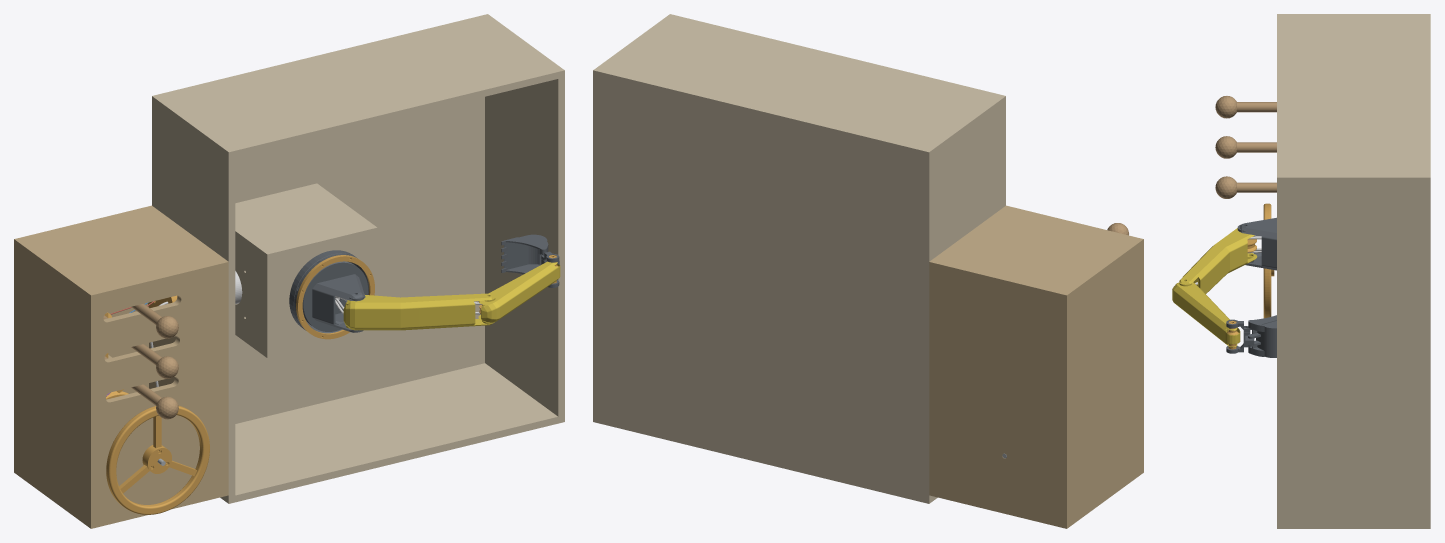
The model's file is 2026-09-24-ex-ma-assembly.glb.
3 renders of one model, left to right at view 1: azimuth 30°, elevation 25°; view 2: azimuth 150°, elevation 25°; view 3: azimuth 270°, elevation 25°, orthographic.
Parts seen in each view (by area): view 1: sandbox floor, box top (removable), sandbox wall +v, sandbox wall -v, sandbox wall +u, box rear, sandbox wall -u (box side), box left side, pedestal top, pedestal wall +v, slew-wheel, tower (+12 smaller); view 2: sandbox floor, box floor, sandbox wall +v, box rear, box left side, sandbox wall -u (box side), box top (removable); view 3: sandbox wall +u, sandbox wall +v, sandbox floor, boom-half-left, stick-half-left, tower, bucket, boom handle, stick handle, bucket handle, slew-wheel, sandbox wall -u (box side) (+2 smaller).
Part boxes in pixels (x1=…): sandbox floor: x1=152, y1=14, x2=491, y2=423; box top (removable): x1=87, y1=259, x2=228, y2=528; sandbox wall +v: x1=162, y1=18, x2=558, y2=157; sandbox wall -v: x1=235, y1=363, x2=558, y2=502; sandbox wall +u: x1=485, y1=17, x2=564, y2=423; box rear: x1=18, y1=240, x2=93, y2=525; sandbox wall -u (box side): x1=155, y1=97, x2=235, y2=503; box left side: x1=25, y1=210, x2=217, y2=290; pedestal top: x1=263, y1=225, x2=377, y2=357; pedestal wall +v: x1=235, y1=185, x2=366, y2=249; slew-wheel: x1=106, y1=406, x2=209, y2=514; tower: x1=302, y1=261, x2=367, y2=332; sandbox floor: x1=593, y1=67, x2=932, y2=503; box floor: x1=929, y1=259, x2=1070, y2=528; sandbox wall +v: x1=604, y1=15, x2=998, y2=147; box rear: x1=1064, y1=240, x2=1139, y2=525; box left side: x1=940, y1=210, x2=1132, y2=290; sandbox wall -u (box side): x1=927, y1=94, x2=1005, y2=500; box top (removable): x1=1003, y1=205, x2=1143, y2=474; sandbox wall +u: x1=1277, y1=174, x2=1422, y2=528; sandbox wall +v: x1=1277, y1=17, x2=1422, y2=174; sandbox floor: x1=1423, y1=14, x2=1430, y2=528; boom-half-left: x1=1179, y1=228, x2=1254, y2=288; stick-half-left: x1=1172, y1=282, x2=1240, y2=339; tower: x1=1237, y1=217, x2=1276, y2=270; bucket: x1=1243, y1=315, x2=1276, y2=357; boom handle: x1=1215, y1=96, x2=1276, y2=118; stick handle: x1=1215, y1=136, x2=1276, y2=158; bucket handle: x1=1215, y1=176, x2=1276, y2=198; slew-wheel: x1=1263, y1=203, x2=1271, y2=318; sandbox wall -u (box side): x1=1277, y1=14, x2=1422, y2=17.
Size of the model in its own units: 860 by 610 by 407.
